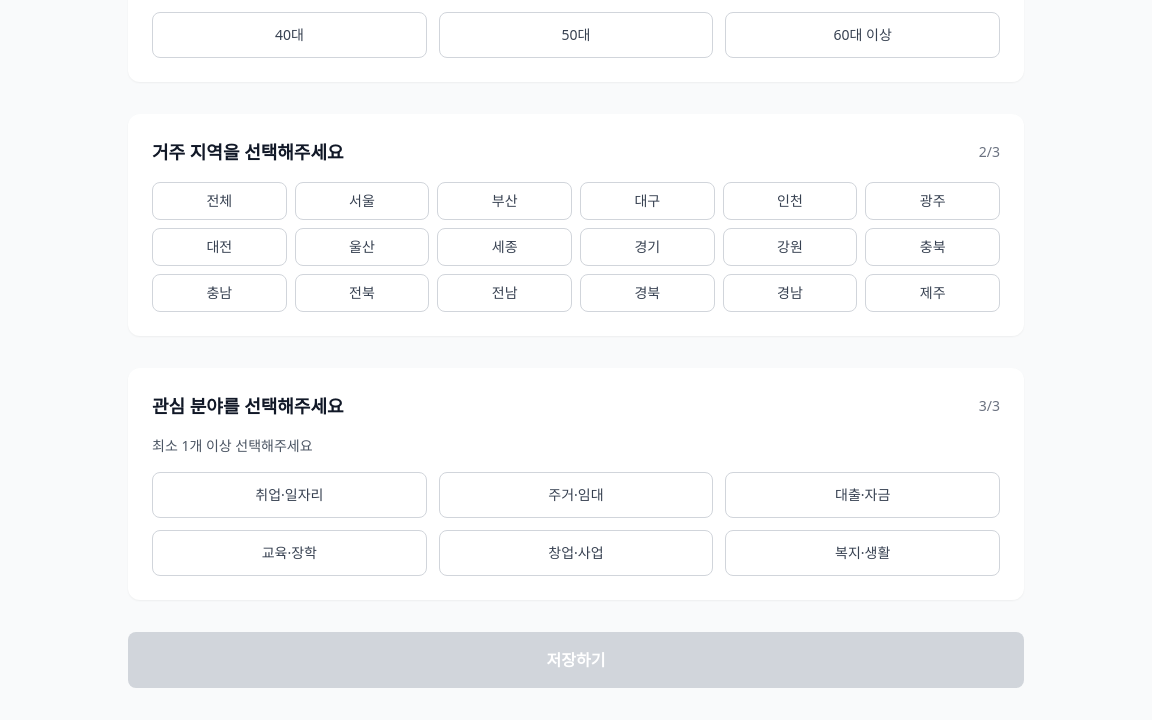
Test: ProfileSetupPage › shows error message on save failure
(page scrolled)
Click the button "취업·일자리". click: (289, 495)
box: left=152, top=472, right=427, bottom=518
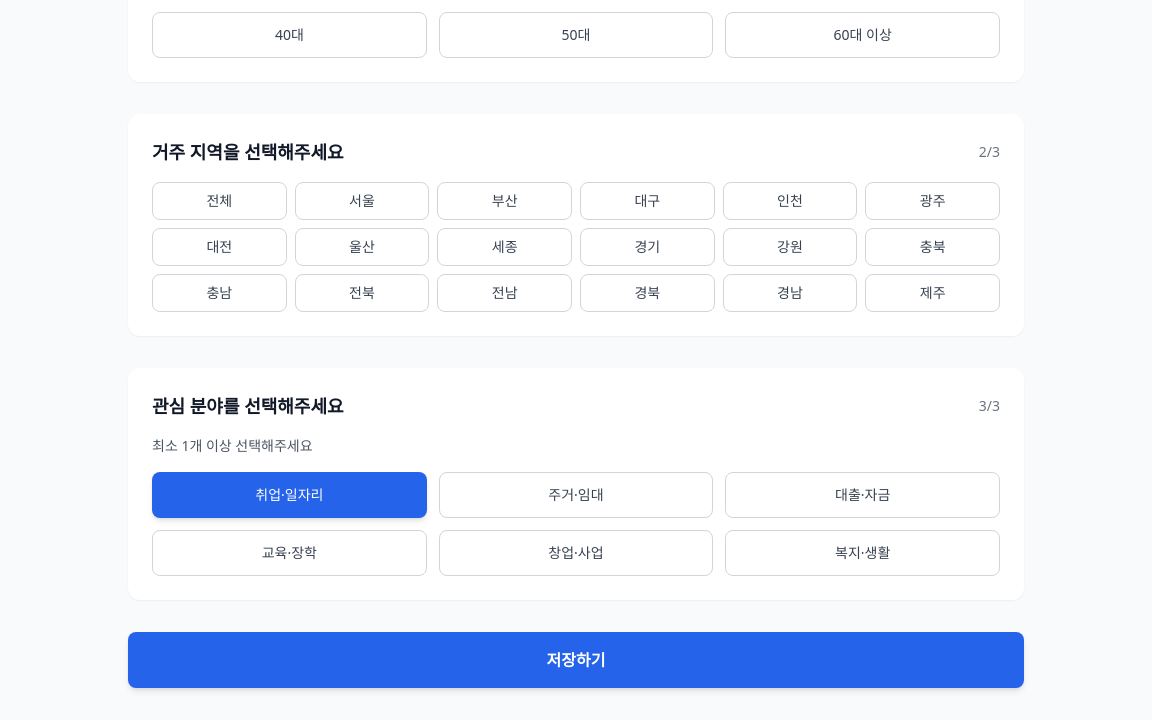
Click the button "저장하기". click: (576, 660)
box: left=128, top=632, right=1024, bottom=688
(page scrolled)
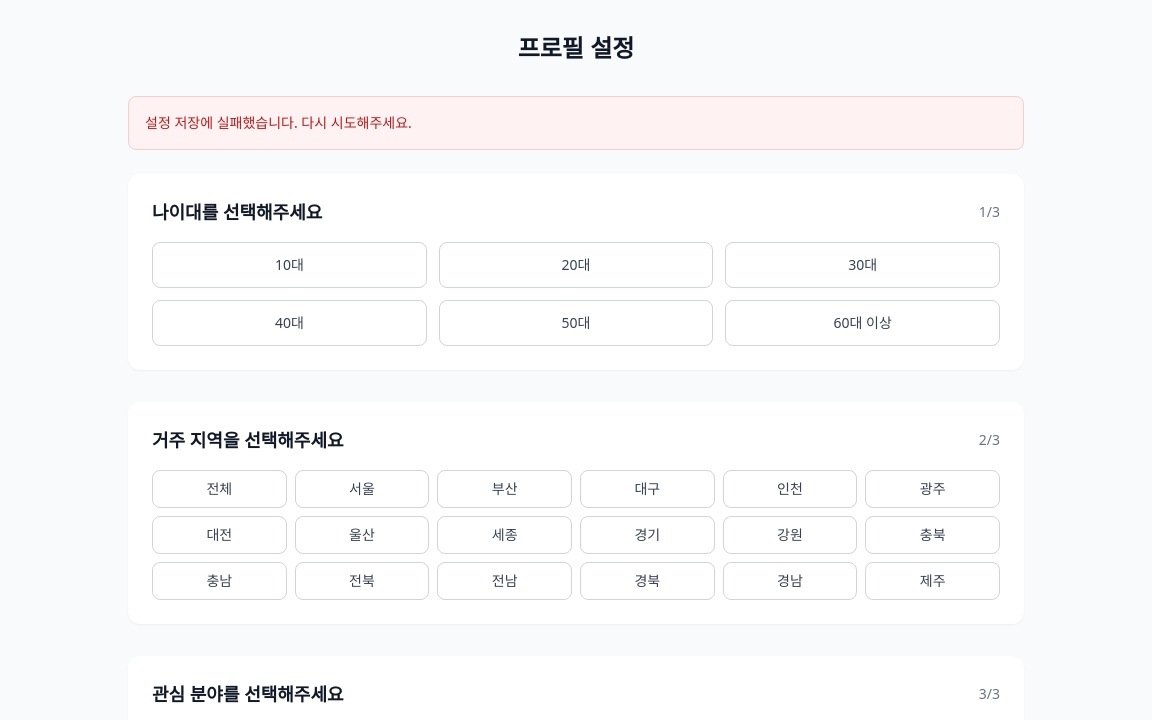
Now the text "설정 저장에 실패했습니다. 다시 시도해주세요." is shown, box left=128, top=96, right=1024, bottom=150
